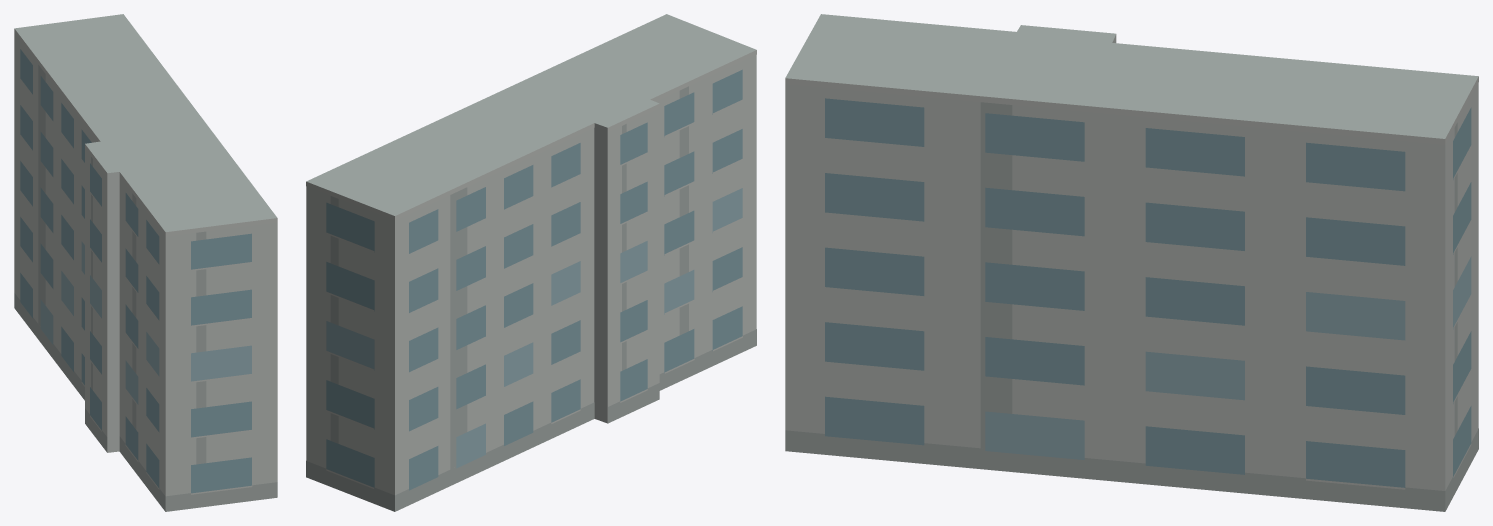
File: survey-upis-33019776.glb
The picture shows the model from 3 angles, left to right: view 1: azimuth 30°, elevation 25°; view 2: azimuth 150°, elevation 25°; view 3: azimuth 270°, elevation 25°; orthographic projection. The views are drawn at different scales.
Visible parts, largest first — view 1: survey-upis-33019776.tmp; view 2: survey-upis-33019776.tmp; view 3: survey-upis-33019776.tmp.
Part boxes in pixels (box(x1,y1,x2,y2)): survey-upis-33019776.tmp: box(14, 14, 277, 511); survey-upis-33019776.tmp: box(306, 14, 756, 511); survey-upis-33019776.tmp: box(785, 14, 1478, 511).
Bounding box in the file's own units: 10.97 × 15.25 × 25.72.
